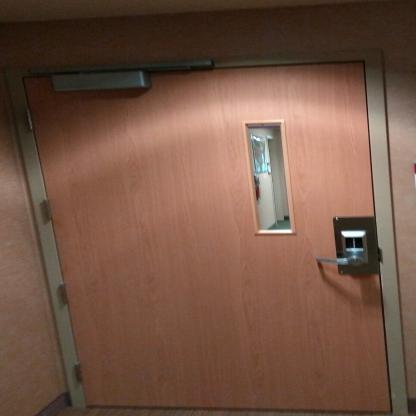door: (7, 61, 381, 409)
hinged: (72, 359, 88, 384), (38, 198, 56, 220), (26, 108, 40, 132), (59, 283, 73, 305)
lever: (311, 254, 370, 267)
